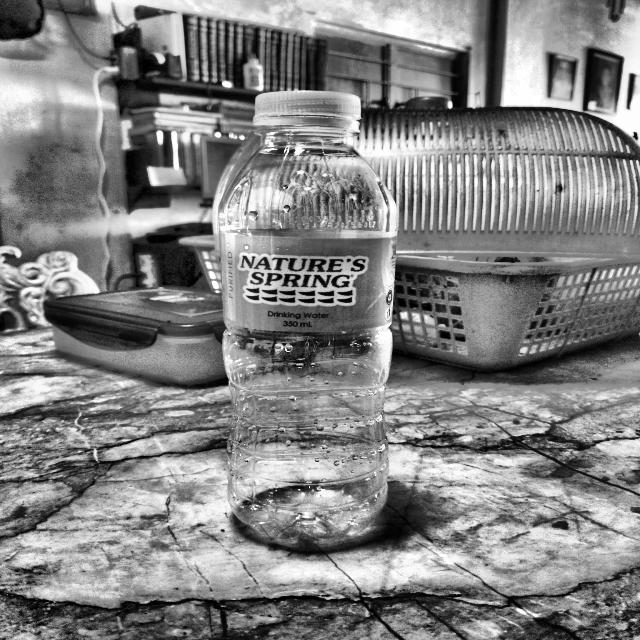Plastic-Bottle: (211, 88, 398, 550)
